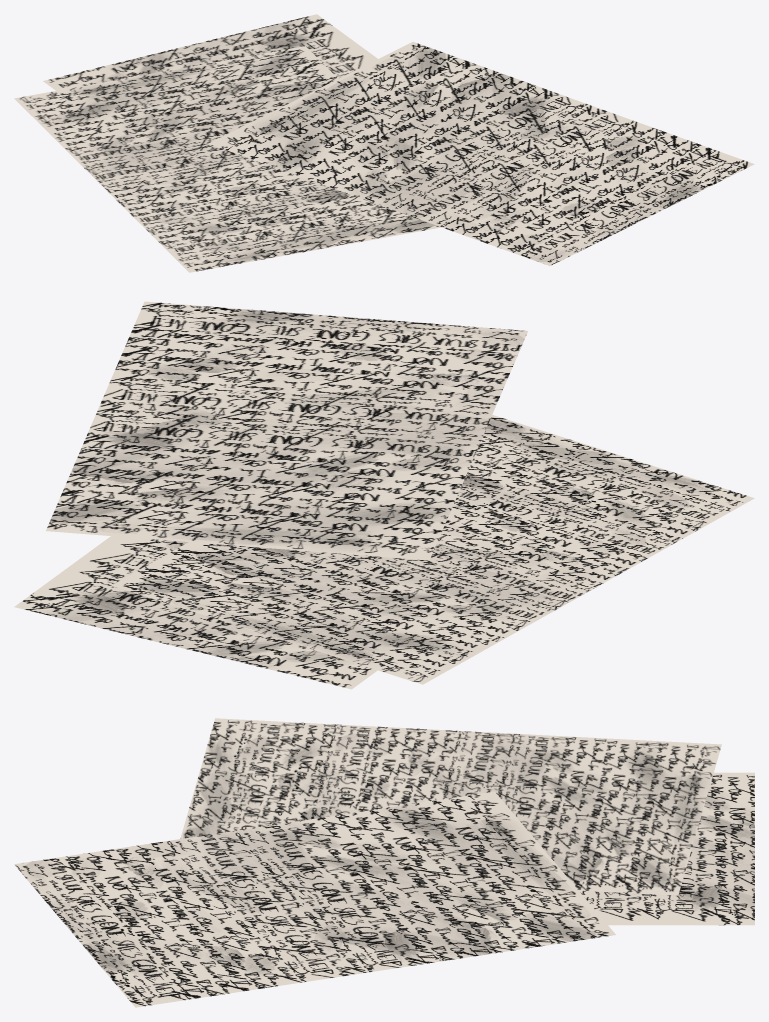
Rendered from papers1.fbx.
3 renders of one model, top to bottom at view 1: azimuth 30°, elevation 25°; view 2: azimuth 150°, elevation 25°; view 3: azimuth 270°, elevation 25°, orthographic. The views are drawn at different scales.
Parts seen in each view (by area): view 1: pPlane3, pPlane2, pPlane1; view 2: pPlane3, pPlane2, pPlane1; view 3: pPlane3, pPlane2, pPlane1.
Boxes of the visible parts, x1,y1,x2,y2 form: pPlane3: [208, 41, 754, 265]; pPlane2: [14, 46, 441, 272]; pPlane1: [43, 14, 377, 90]; pPlane3: [46, 301, 527, 560]; pPlane2: [111, 415, 754, 684]; pPlane1: [14, 536, 377, 689]; pPlane3: [14, 791, 615, 1007]; pPlane2: [180, 718, 721, 895]; pPlane1: [579, 772, 754, 925].
Size of the model in its own units: 115 by 1.76 by 122.
